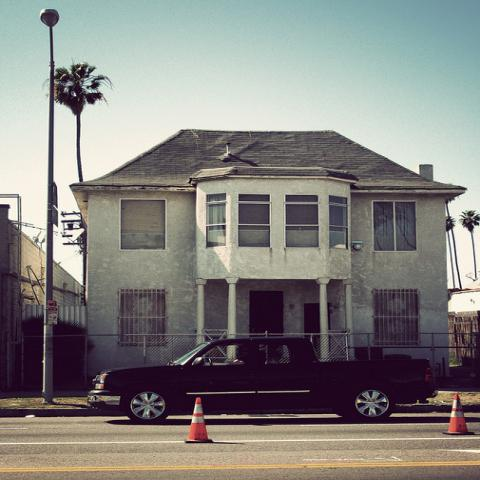truck: (84, 336, 440, 420)
